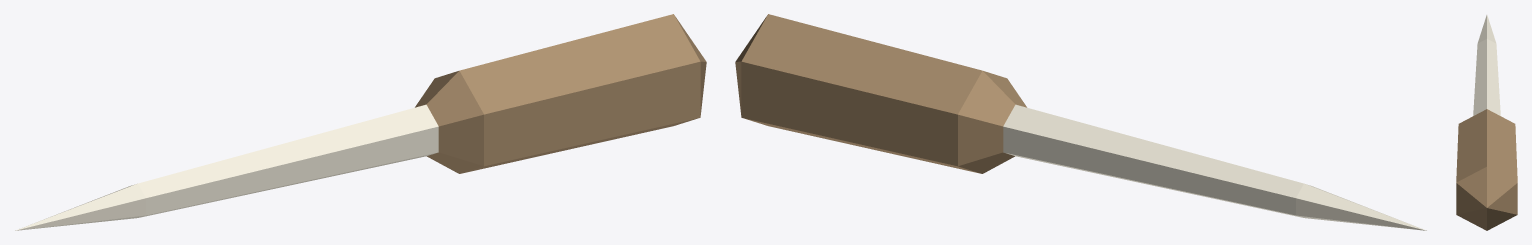
Rendered from prop-bodkin-awl-bw1.fbx.
3 views of the same model, side by side, from view 1: azimuth 30°, elevation 25°; view 2: azimuth 150°, elevation 25°; view 3: azimuth 270°, elevation 25° (orthographic). The views are drawn at different scales.
Parts seen in each view (by area): view 1: prop-bodkin-awl-bw1; view 2: prop-bodkin-awl-bw1; view 3: prop-bodkin-awl-bw1.
Part boxes in pixels (x1,y1,x2,y2): prop-bodkin-awl-bw1: (15,14,706,230); prop-bodkin-awl-bw1: (735,14,1426,230); prop-bodkin-awl-bw1: (1456,15,1517,230).
Bounding box in the file's own units: 16.8 × 2.6 × 2.25.
